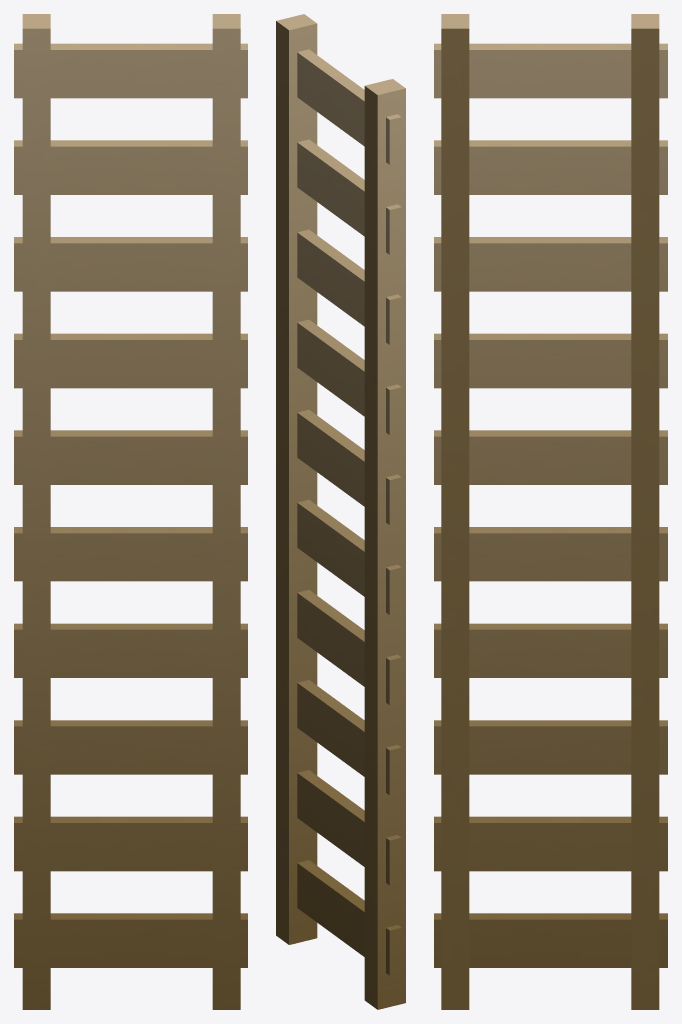
Rendered from Ladder.fbx.
3 views of the same model, side by side, from view 1: azimuth 90°, elevation 25°; view 2: azimuth 210°, elevation 25°; view 3: azimuth 270°, elevation 25° (orthographic). The views are drawn at different scales.
Parts seen in each view (by area): view 1: Cube.039; view 2: Cube.039; view 3: Cube.039.
Part boxes in pixels (x1,y1,x2,y2): Cube.039: (14, 14, 247, 1009); Cube.039: (276, 14, 405, 1009); Cube.039: (434, 14, 667, 1009).
Size of the model in its own units: 9.35 by 290 by 62.65.
Materials: 1 (1 with a texture image).
